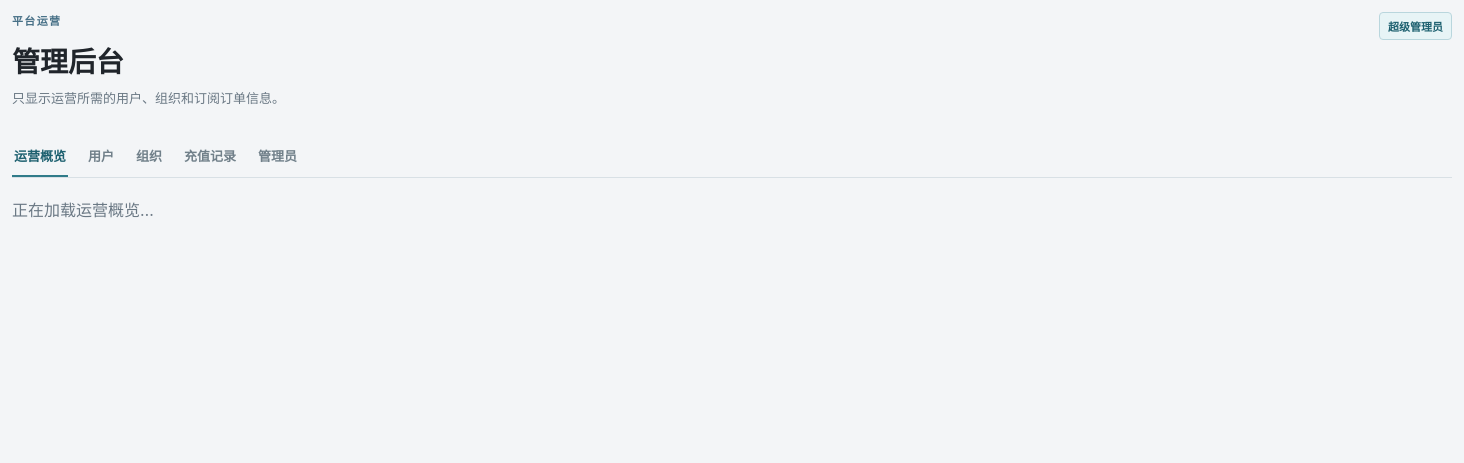
shows a dash when an order has no provider transaction ID
Click the button "充值记录": (210, 157) [182, 137, 238, 177]
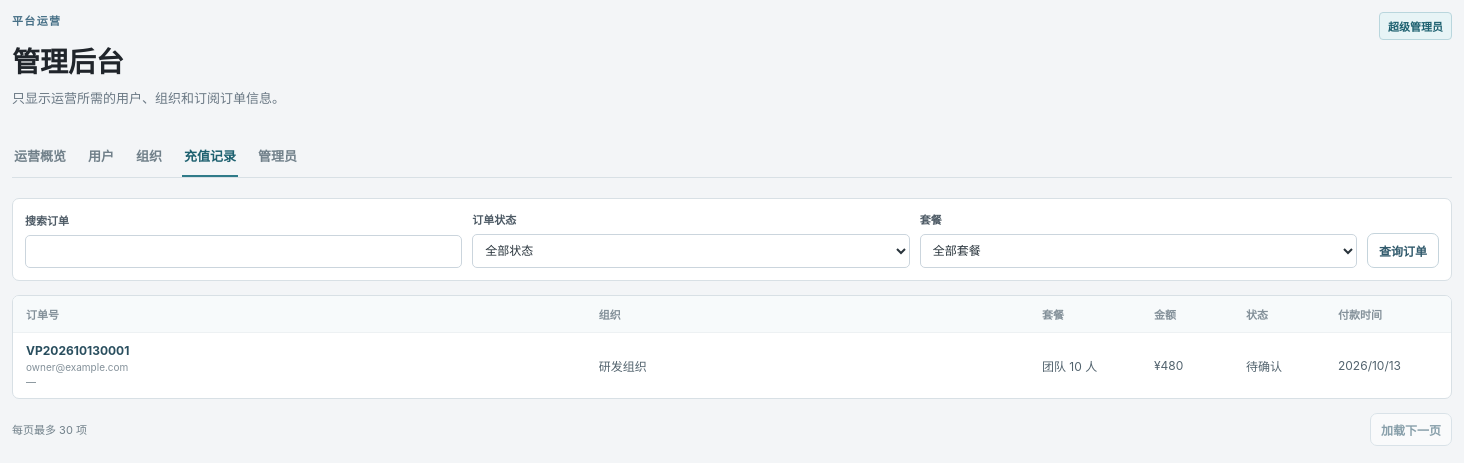
Expected: the text "—" is shown, [26, 376, 36, 388]
Expected: the text "VP202610130001" is shown, [26, 343, 129, 358]
